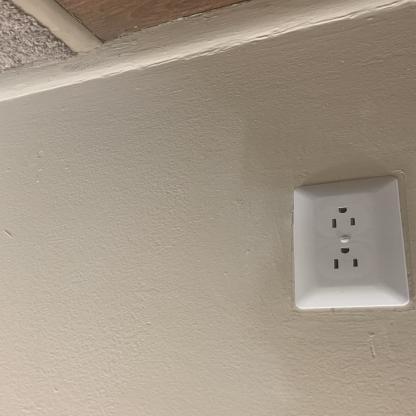OUTLET: (293, 172, 410, 312)
